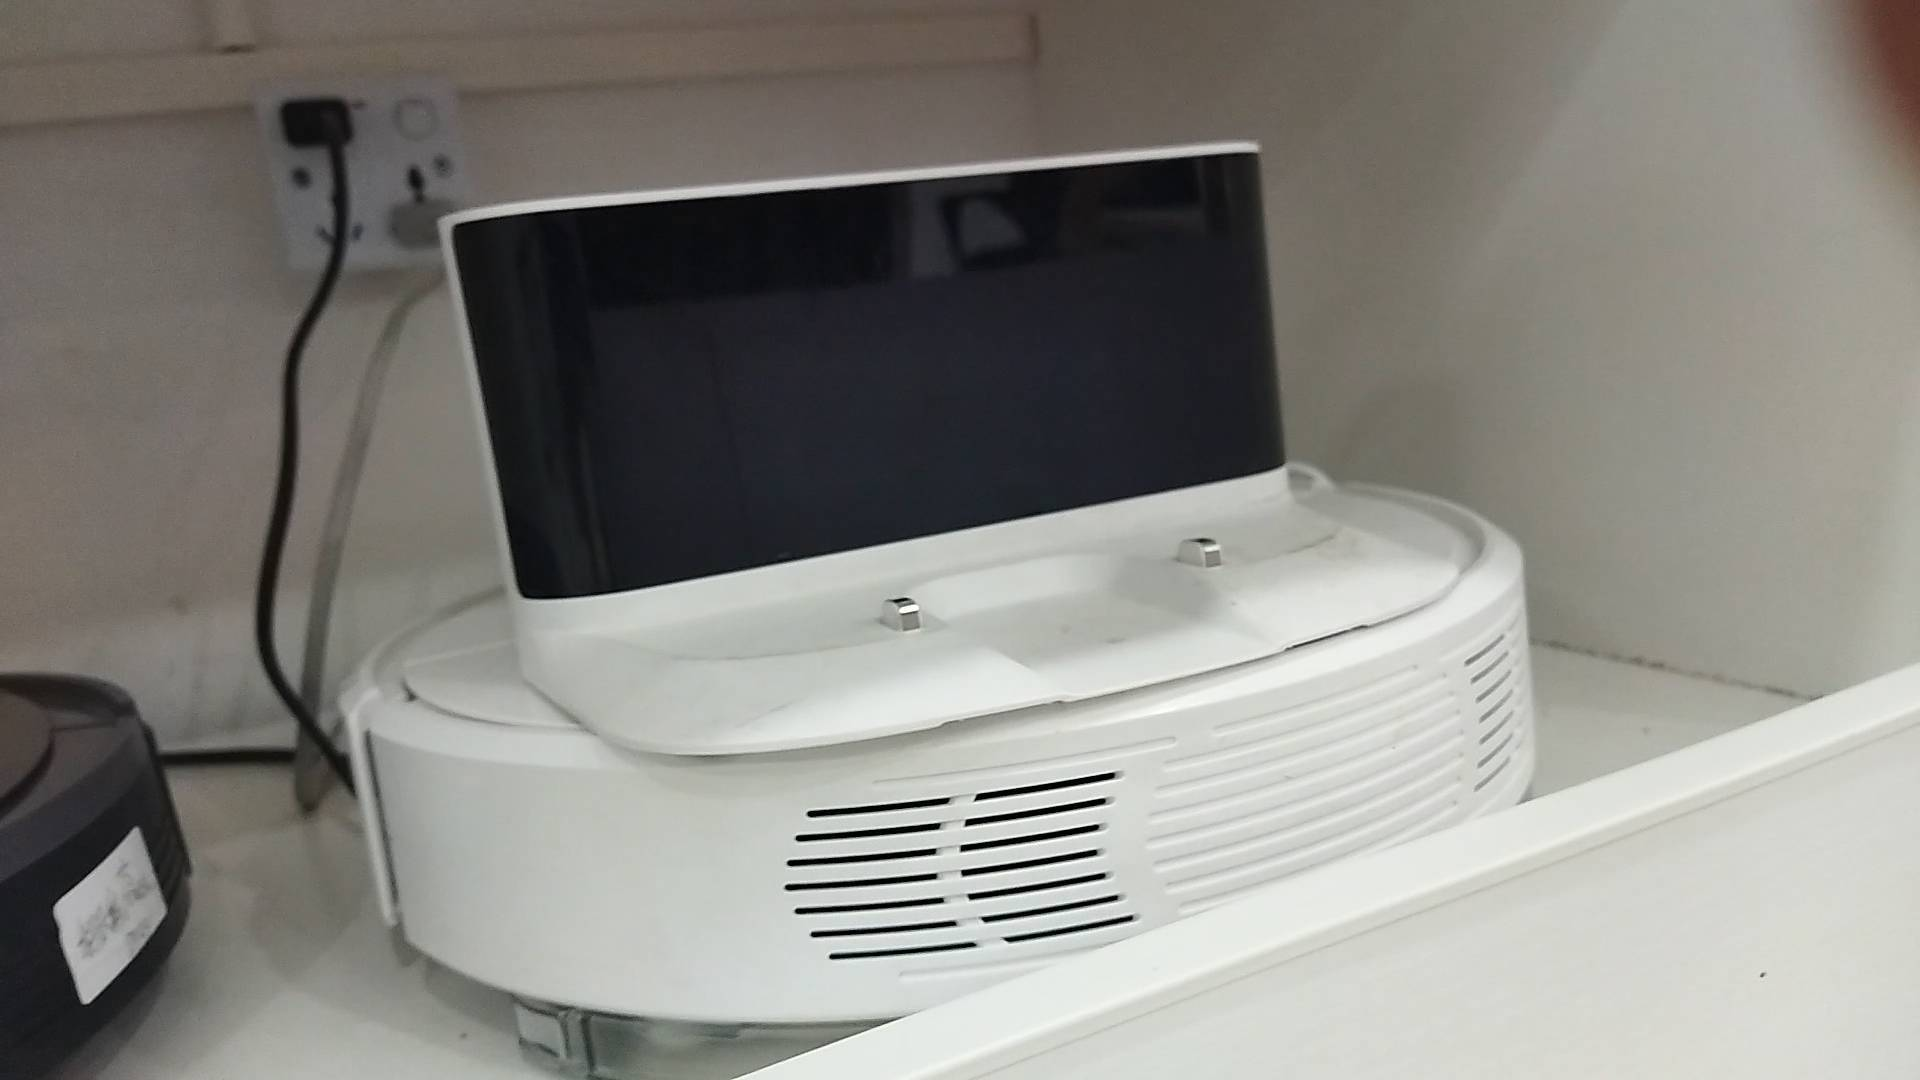recharge seat: (436, 142, 1458, 756)
